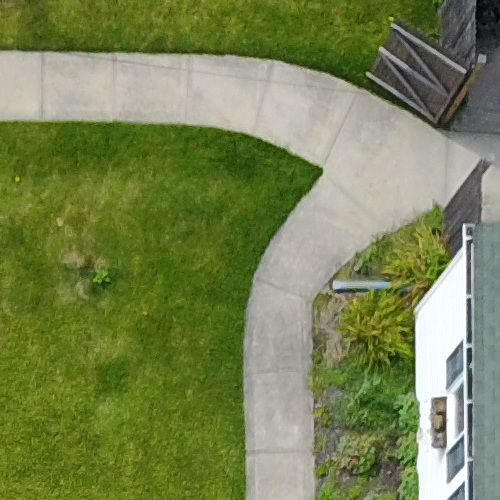gutter: (322, 257, 416, 302)
